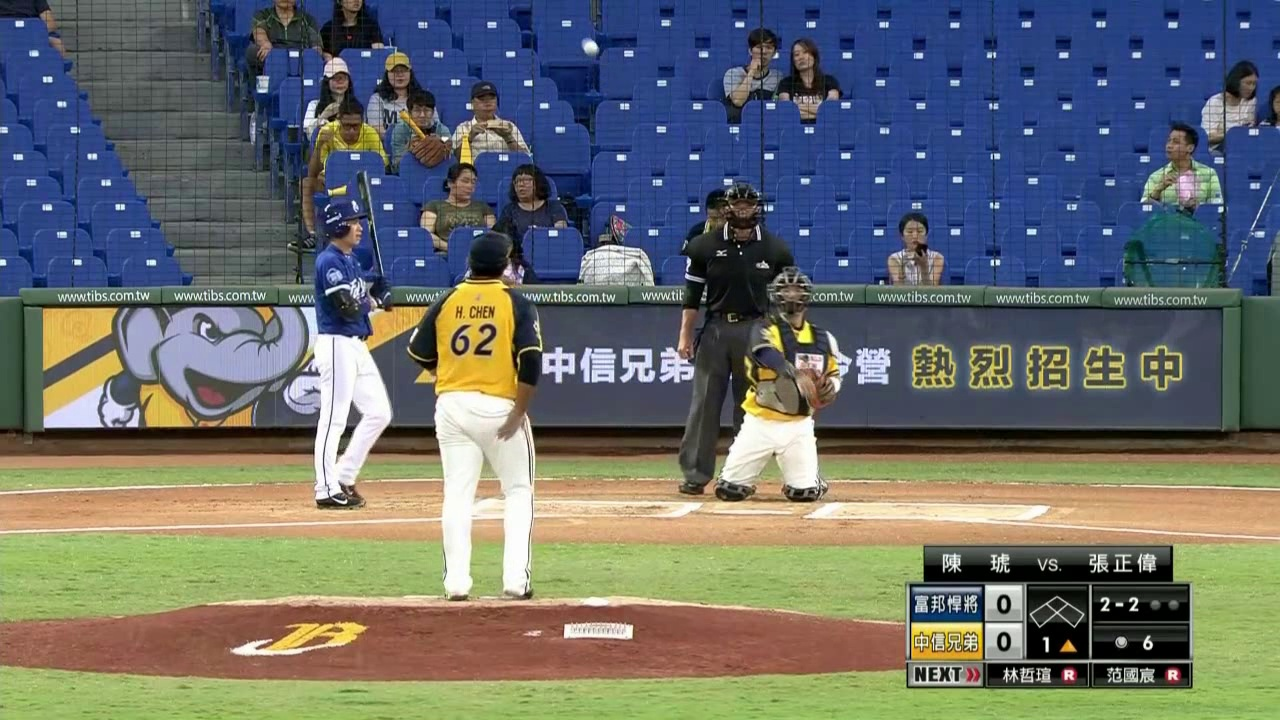ball: (587, 42, 597, 53)
base: (1025, 589, 1084, 630)
bat: (354, 169, 385, 287)
out: (1145, 591, 1186, 622)
score1: (985, 589, 1023, 620)
score2: (987, 629, 1027, 657)
session: (1028, 635, 1080, 657)
strikeball: (1098, 588, 1146, 622)
total: (1111, 627, 1159, 656)
